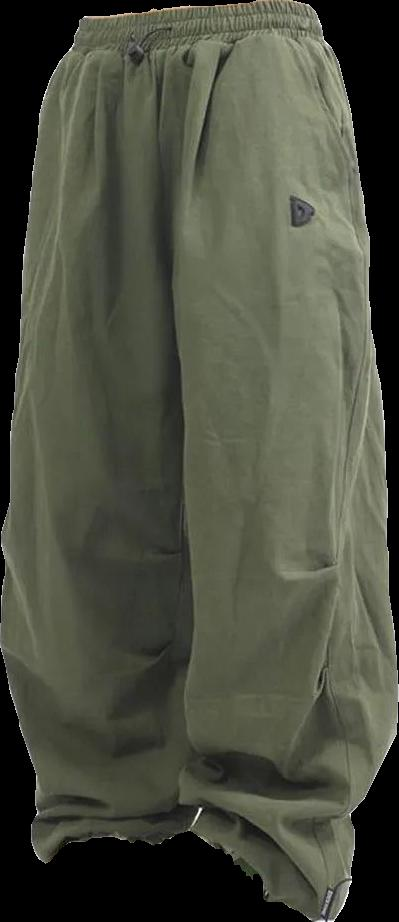Hemline: (188, 823, 339, 921), (43, 820, 190, 865)
Pantleg: (152, 0, 397, 921), (0, 10, 191, 862)
Waistline: (71, 23, 324, 56), (79, 0, 307, 25)
